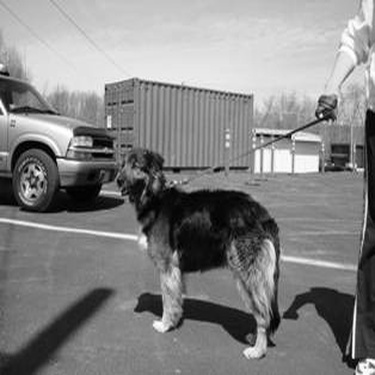car: (1, 74, 122, 214)
dog: (104, 140, 286, 362)
